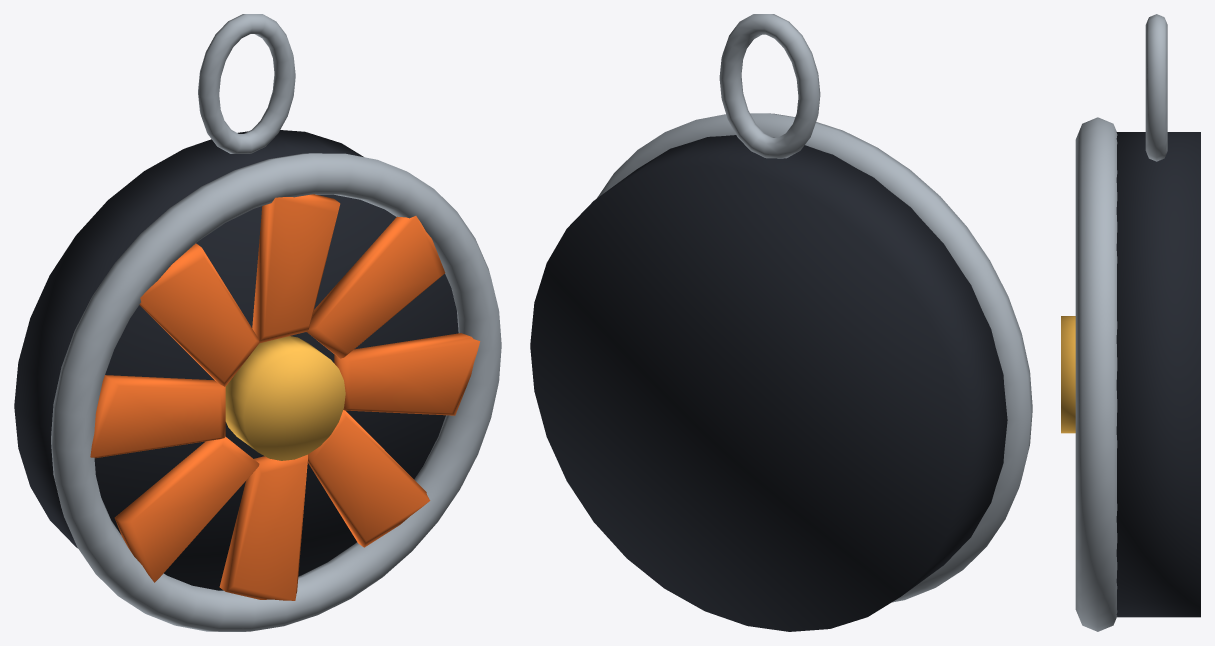
The model's file is sol_turbine_charm.glb.
The picture shows the model from 3 angles, left to right: view 1: azimuth 30°, elevation 25°; view 2: azimuth 150°, elevation 25°; view 3: azimuth 270°, elevation 25°; orthographic projection. The views are drawn at different scales.
Parts seen in each view (by area): view 1: sol_turbine_charm_accent, sol_turbine_charm_metal, sol_turbine_charm_dark, sol_turbine_charm_gem; view 2: sol_turbine_charm_dark, sol_turbine_charm_metal; view 3: sol_turbine_charm_dark, sol_turbine_charm_metal, sol_turbine_charm_gem.
Boxes of the visible parts, x1,y1,x2,y2 form: sol_turbine_charm_accent: [90, 194, 480, 600]; sol_turbine_charm_metal: [51, 14, 501, 631]; sol_turbine_charm_dark: [14, 130, 458, 590]; sol_turbine_charm_gem: [225, 336, 345, 460]; sol_turbine_charm_dark: [530, 135, 1007, 631]; sol_turbine_charm_metal: [597, 14, 1032, 602]; sol_turbine_charm_dark: [1116, 132, 1200, 617]; sol_turbine_charm_metal: [1075, 14, 1167, 631]; sol_turbine_charm_gem: [1061, 316, 1075, 433].
Bounding box in the file's own units: 0.07 × 0.0885 × 0.019.
